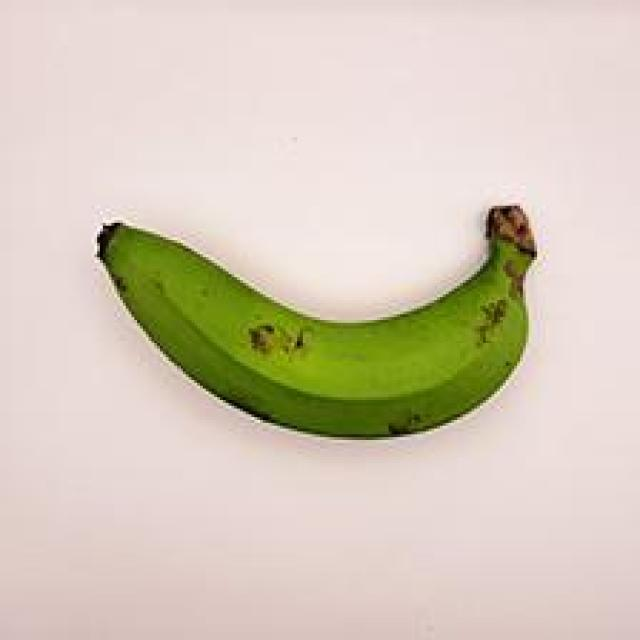Raw: (77, 165, 568, 457)
